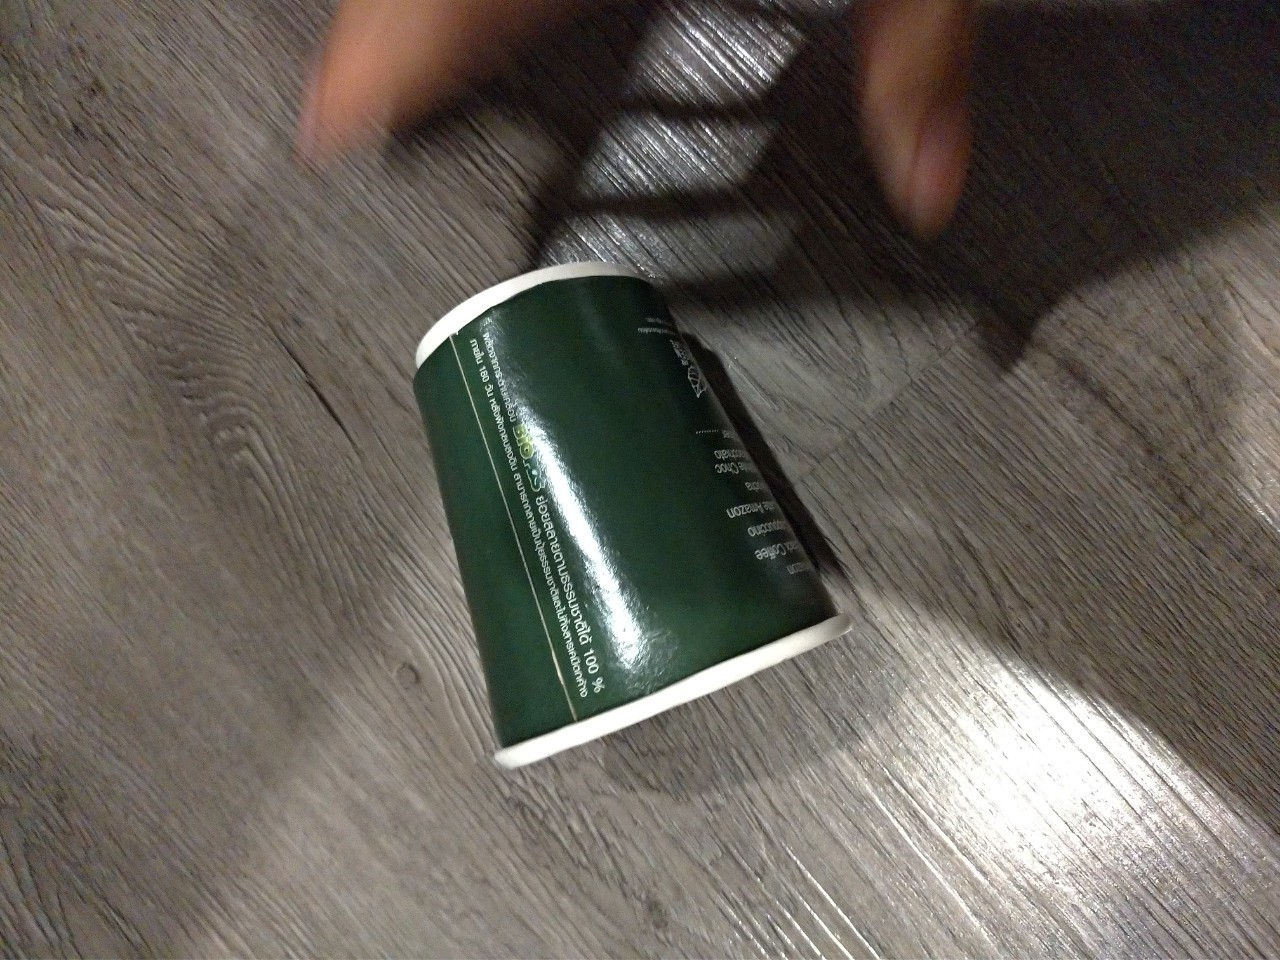PaperCup: (418, 250, 851, 774)
